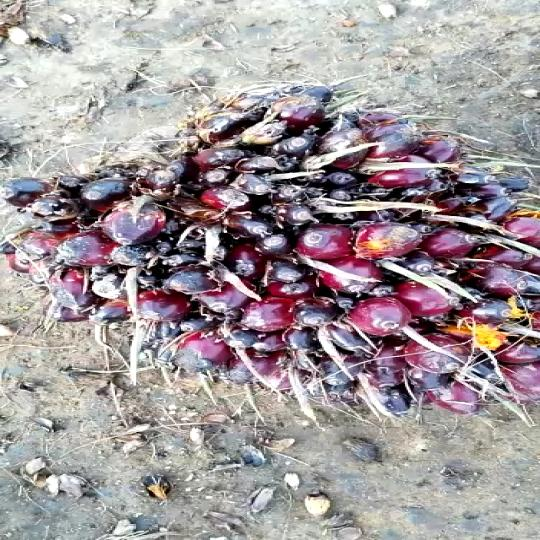kurang masak: (30, 84, 540, 422)
